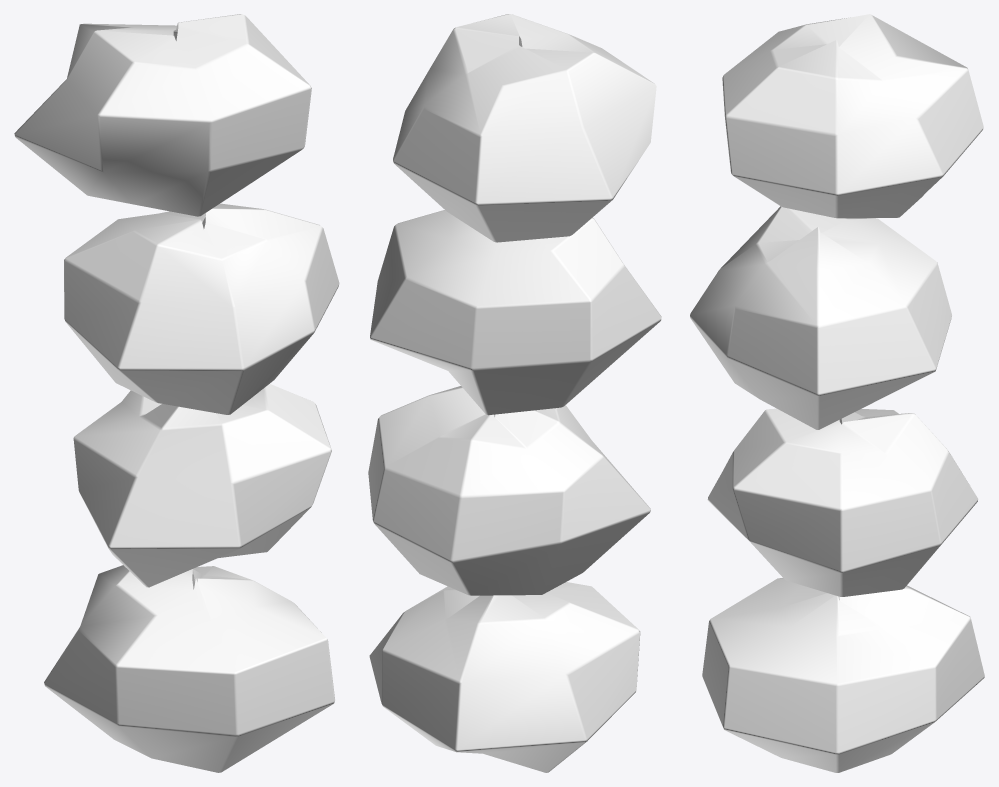
The model's file is corner.glb.
3 views of the same model, side by side, from view 1: azimuth 30°, elevation 25°; view 2: azimuth 150°, elevation 25°; view 3: azimuth 270°, elevation 25° (orthographic). The views are drawn at different scales.
Visible parts, largest first — view 1: Corner; view 2: Corner; view 3: Corner.
Boxes of the visible parts, x1,y1,x2,y2 form: Corner: (14,14,339,772); Corner: (368,14,661,772); Corner: (690,14,984,772).
Bounding box in the file's own units: 2.06 × 5.06 × 1.93.
Materials: 1 (1 with a texture image).
